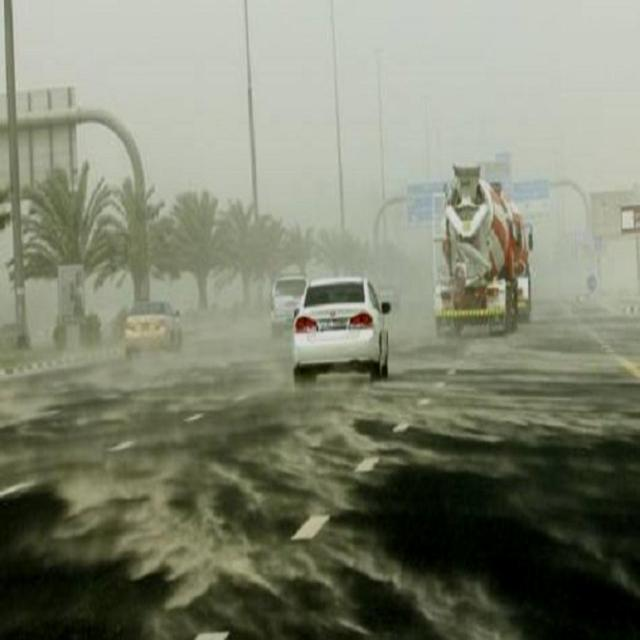Car: (285, 271, 395, 384), (118, 295, 187, 361), (267, 265, 310, 347)
Truck: (432, 154, 536, 343)
